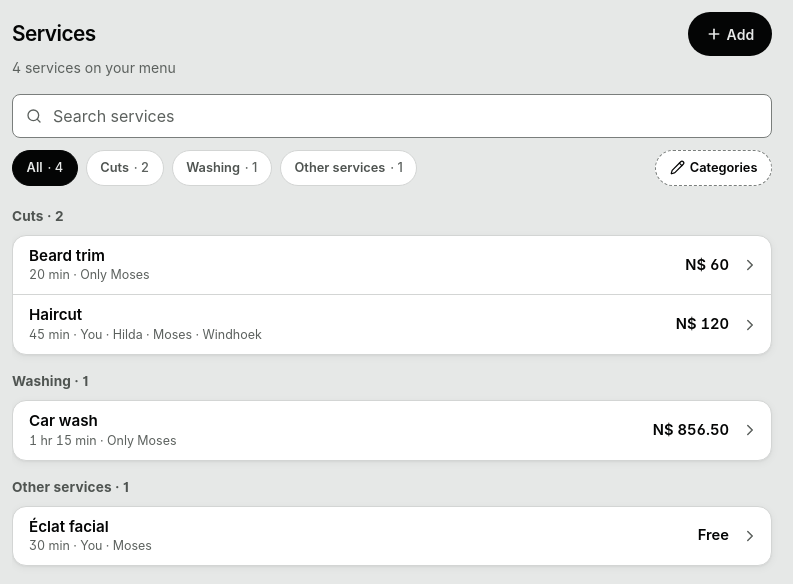
Test: ServiceMenu — the owner › the search box clear button empties it
Type "hair" into the search field labelled "Search services".
click(392, 116); type("hair")  # box [12,94,772,138]
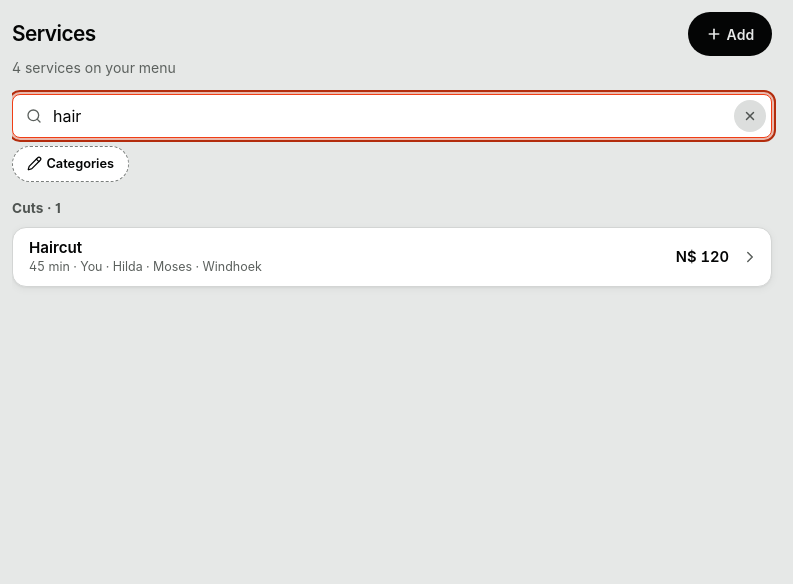
Click the button named "Clear service search".
click(750, 116)  # box [728,94,772,138]
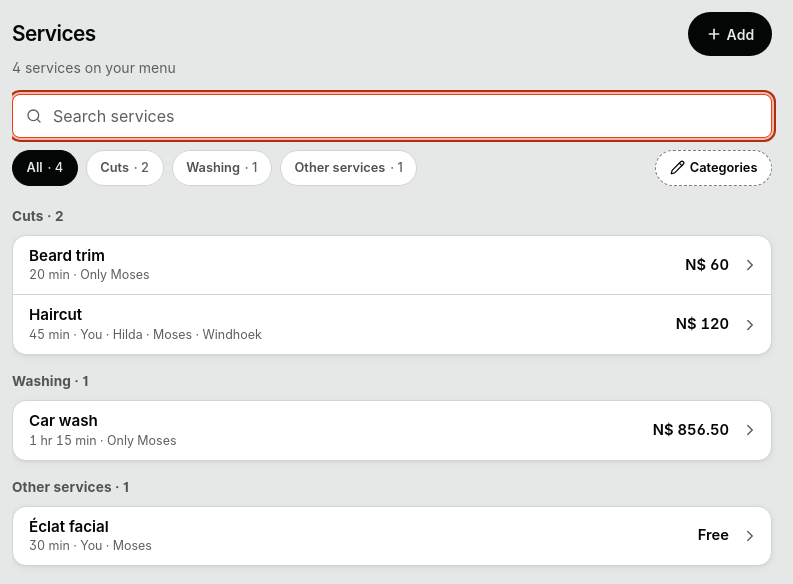
Expected: the search field labelled "Search services" is empty, [12,94,772,138]
